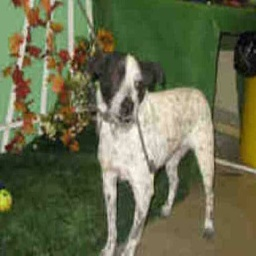dog: (84, 44, 218, 256)
